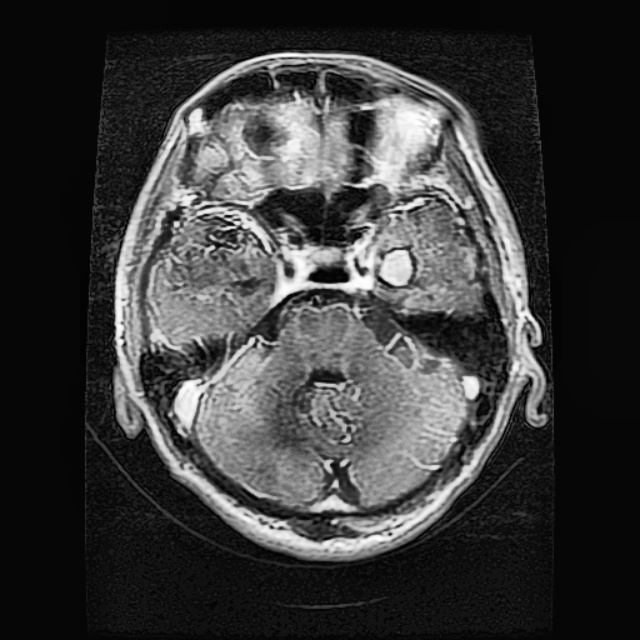Glioma: (379, 247, 414, 285)
